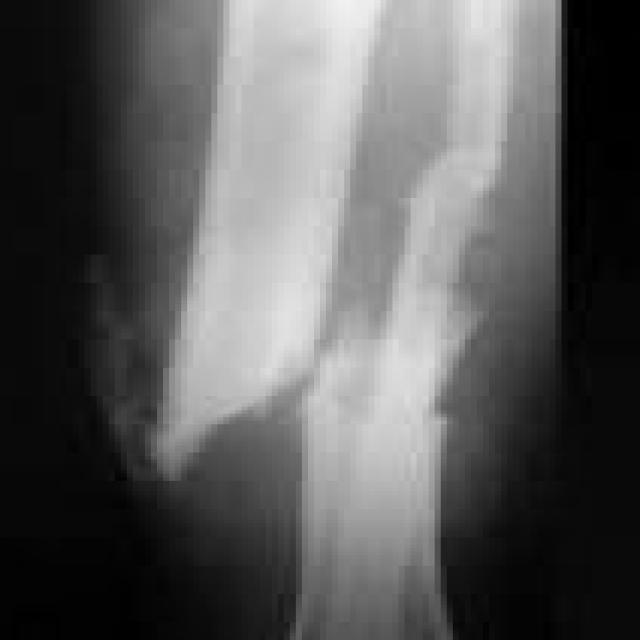Broken: (159, 3, 380, 491), (282, 320, 480, 640)
